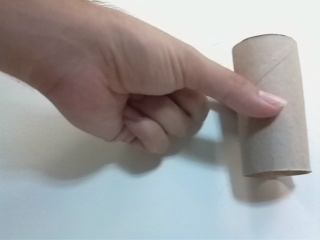rollo papel: (229, 31, 315, 182)
